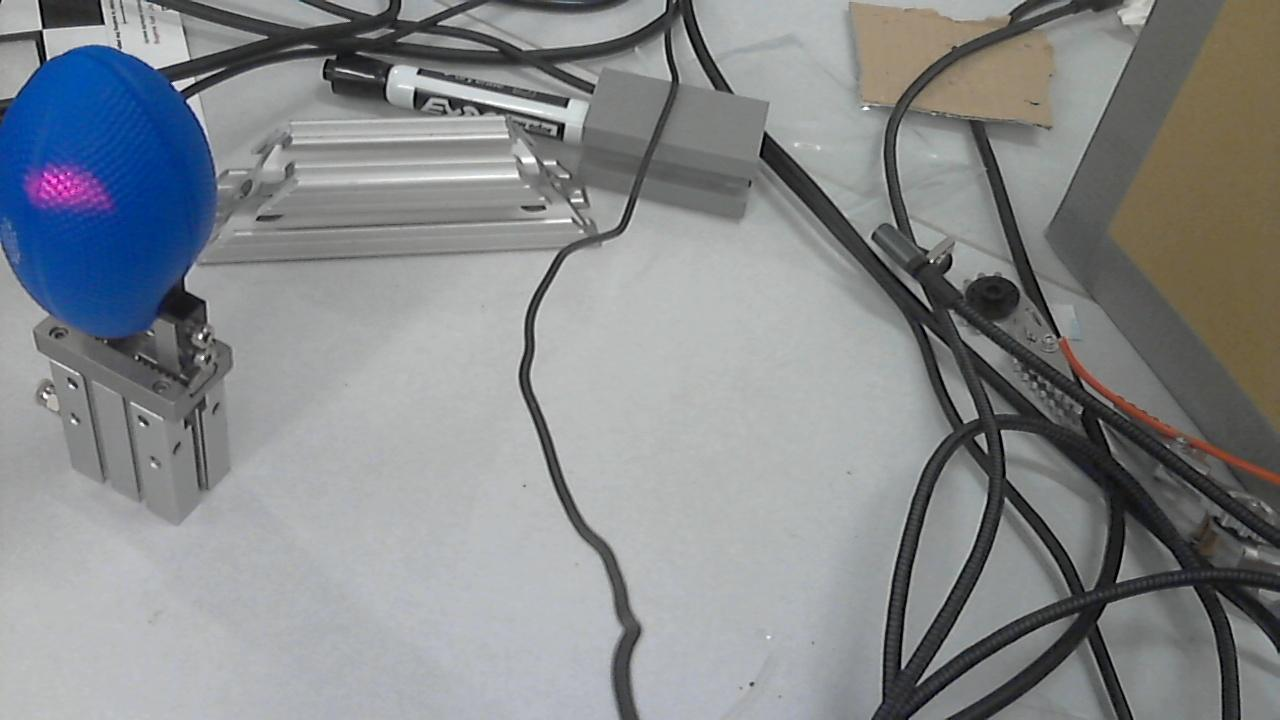Object toy football - Material foam - Color blue - Pdfname VT1ffZoLOnKv: (20, 165, 131, 229)
